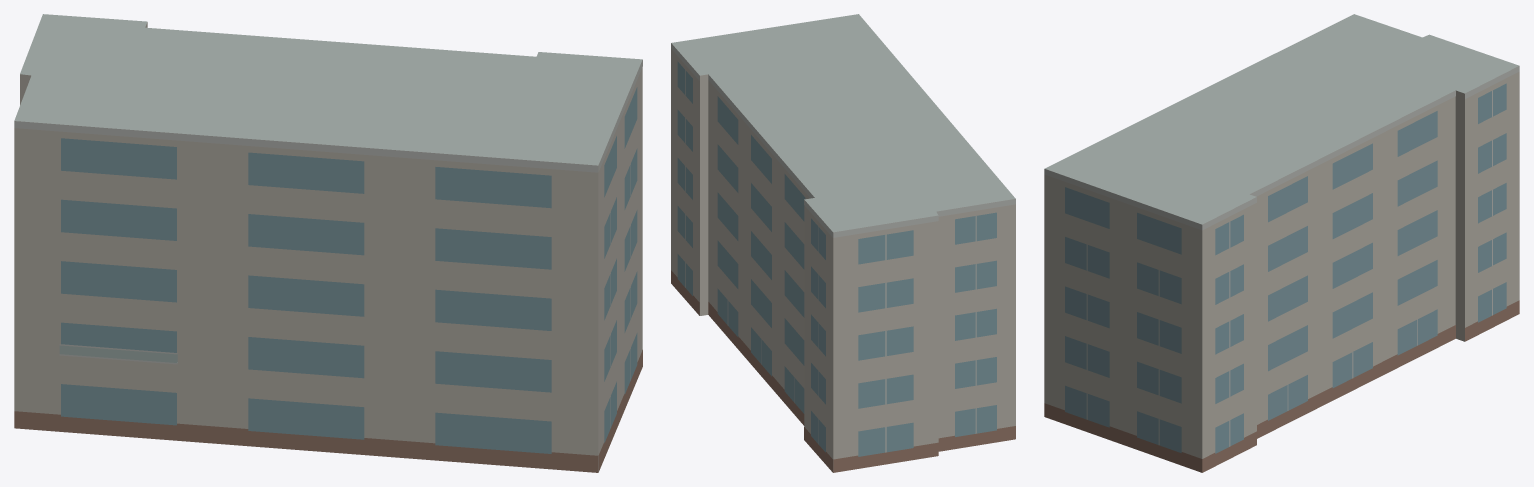
The model's file is survey-upis-32965359.glb.
3 views of the same model, side by side, from view 1: azimuth 30°, elevation 25°; view 2: azimuth 150°, elevation 25°; view 3: azimuth 270°, elevation 25° (orthographic). The views are drawn at different scales.
Parts seen in each view (by area): view 1: survey-upis-32965359.tmp; view 2: survey-upis-32965359.tmp; view 3: survey-upis-32965359.tmp.
Boxes of the visible parts, x1,y1,x2,y2 form: survey-upis-32965359.tmp: [14, 14, 642, 472]; survey-upis-32965359.tmp: [671, 14, 1015, 472]; survey-upis-32965359.tmp: [1044, 14, 1519, 472].
Size of the model in its own units: 19.12 by 10.5 by 18.23.
